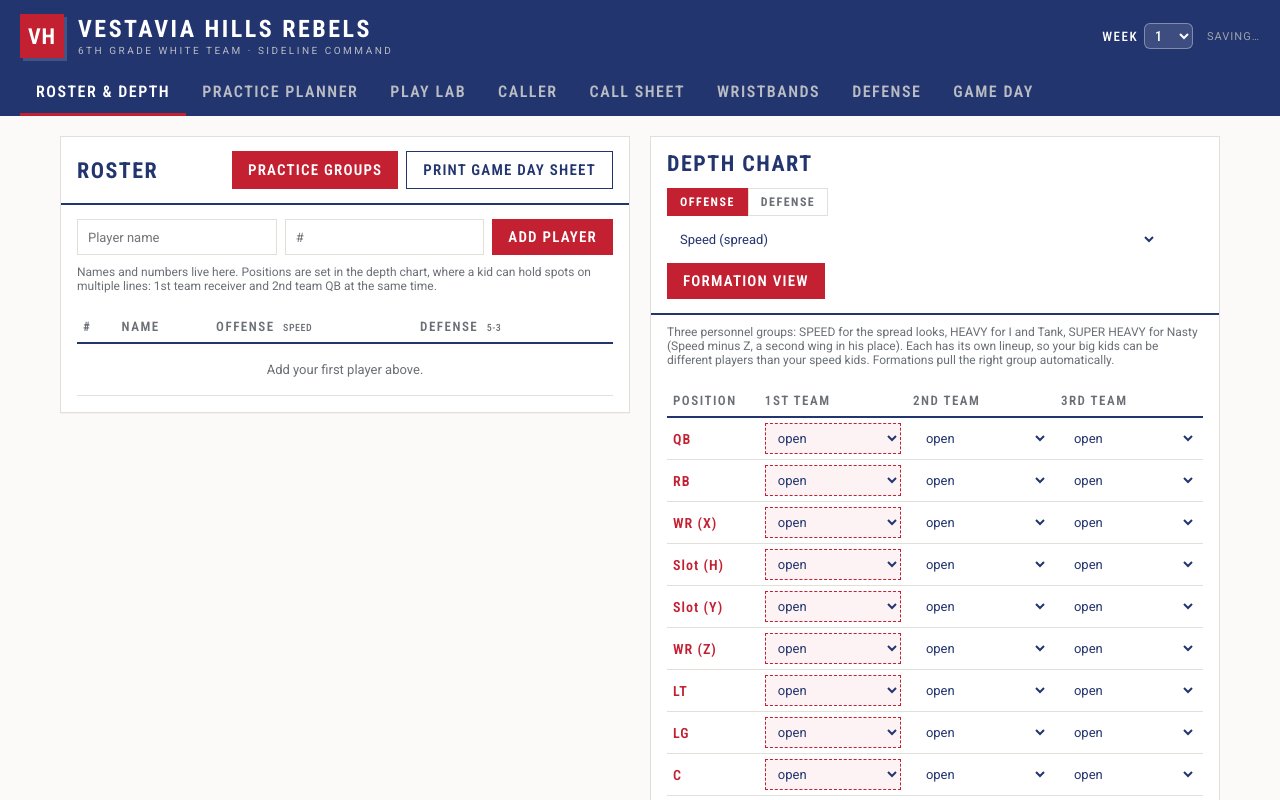
Test: supabase sync › survives stale defense data from the old version (cov=lock, blitz=mike)
Expected: the text "VESTAVIA HILLS REBELS" is shown, top-left (78, 16), bottom-right (393, 40)
Step 1. Click the 7th button with class "tab" → [887, 94], box top-left (836, 72), bottom-right (937, 116)
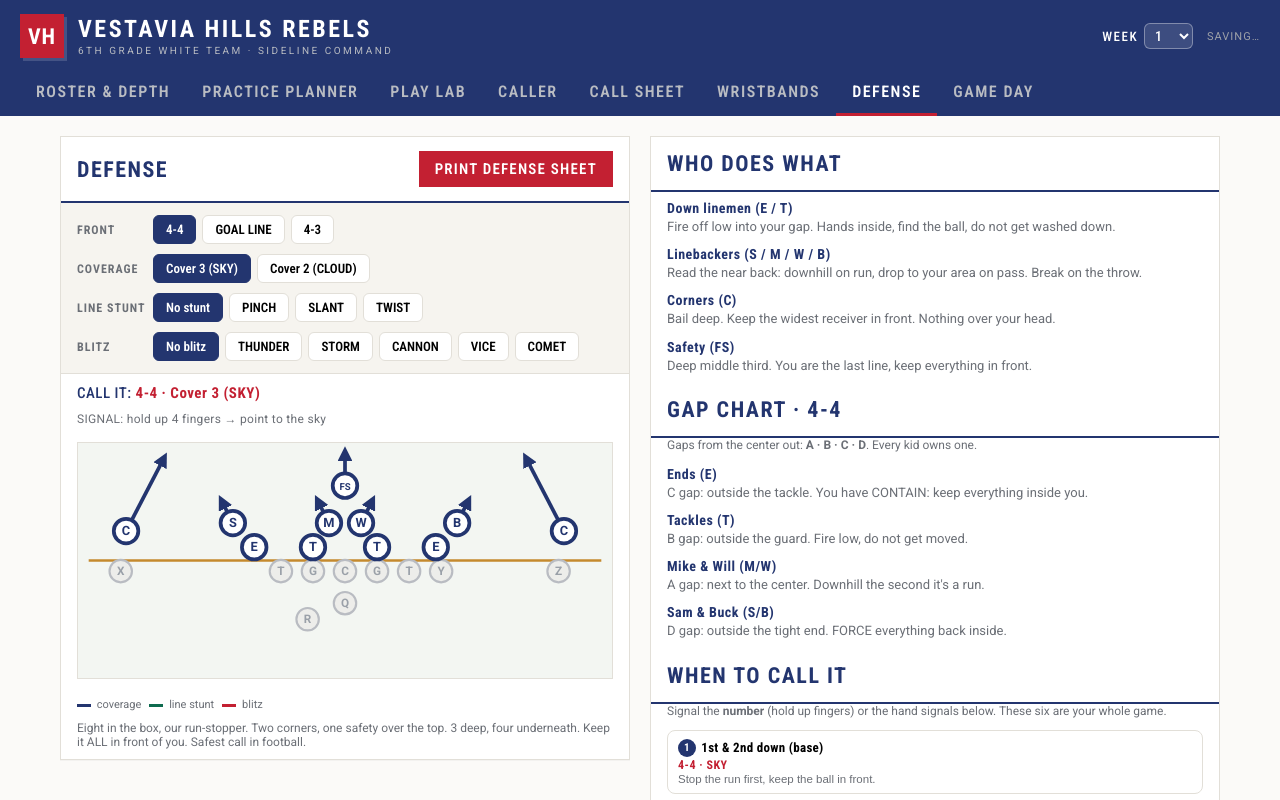
Result: the icon "X T G C G T Y Z Q R E T T E S M W B C C FS" is shown at top-left (77, 442), bottom-right (613, 679)
Result: the text "4-4 · Cover 3 (SKY)" is shown at top-left (136, 384), bottom-right (260, 402)
